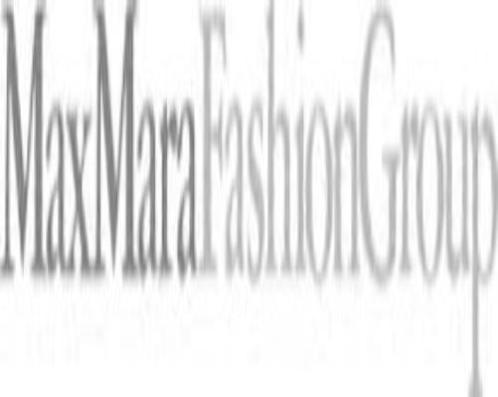MAX-MARA: (0, 1, 199, 277)
